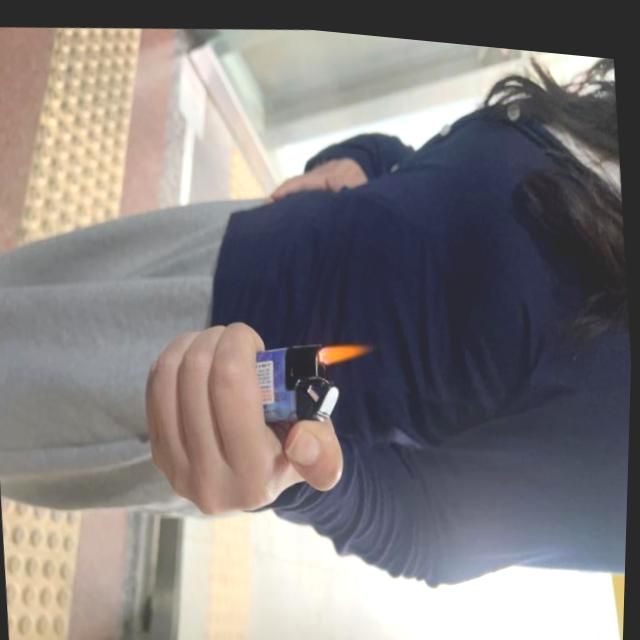Fire: (322, 333, 371, 363)
